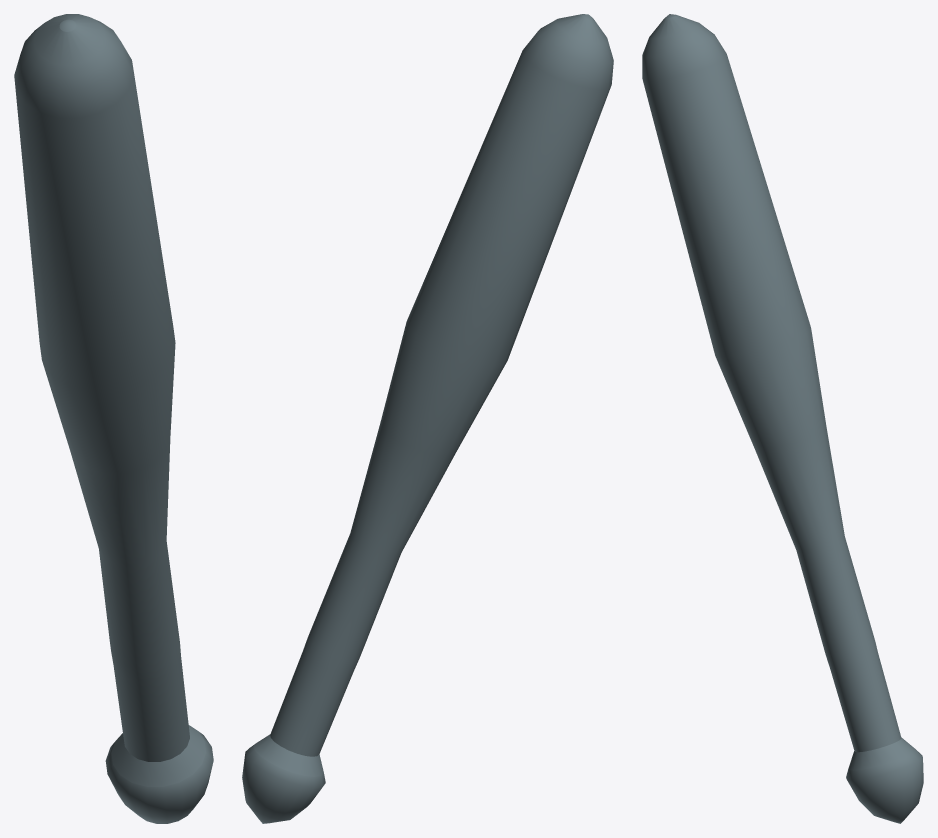
File: SilverBat.fbx
3 views of the same model, side by side, from view 1: azimuth 30°, elevation 25°; view 2: azimuth 150°, elevation 25°; view 3: azimuth 270°, elevation 25° (orthographic). The views are drawn at different scales.
Visible parts, largest first — view 1: Sphere; view 2: Sphere; view 3: Sphere.
Boxes of the visible parts, box(x1,y1,x2,y2) form: Sphere: box(14, 14, 213, 823); Sphere: box(242, 14, 613, 823); Sphere: box(642, 14, 923, 823).
Bounding box in the file's own units: 835 × 2446 × 870.
